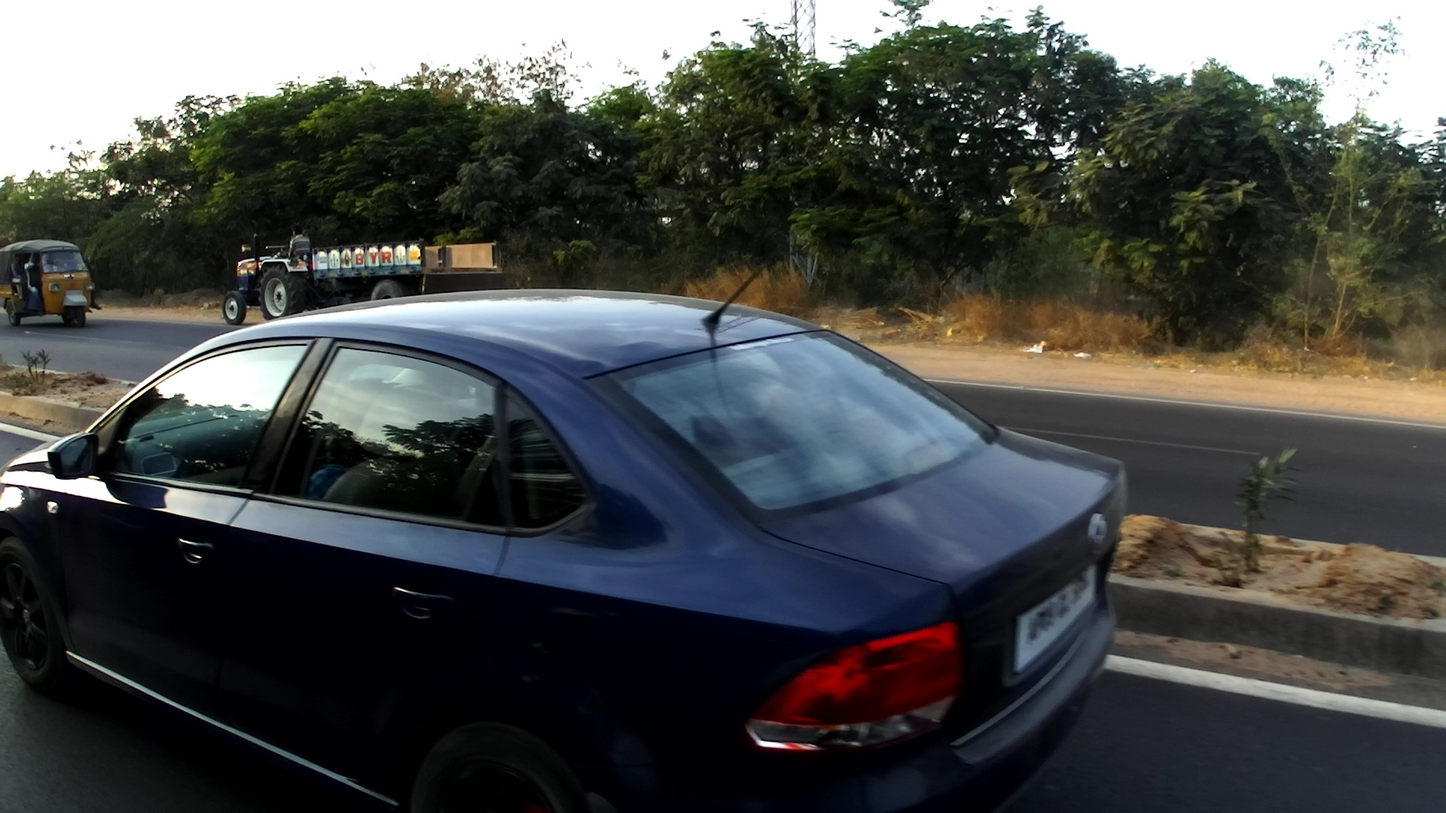autorickshaw: (1, 237, 100, 328)
car: (2, 265, 1128, 813)
vehicle fallback: (223, 225, 505, 324)
